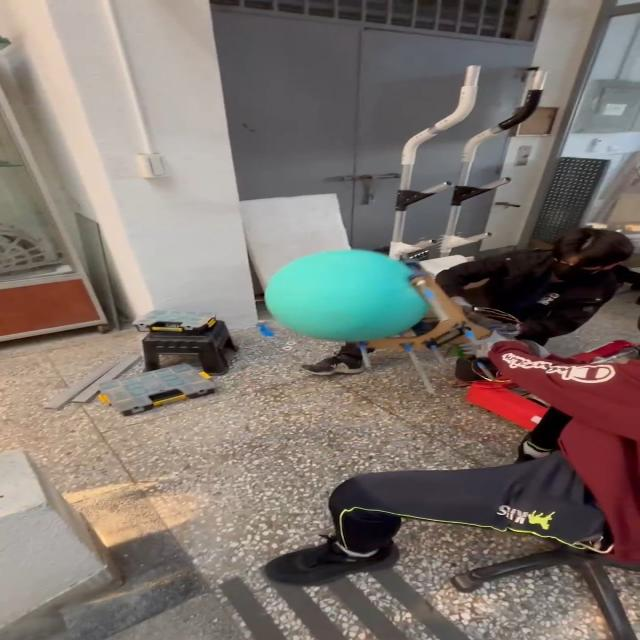ALGAE: (261, 248, 431, 342)
